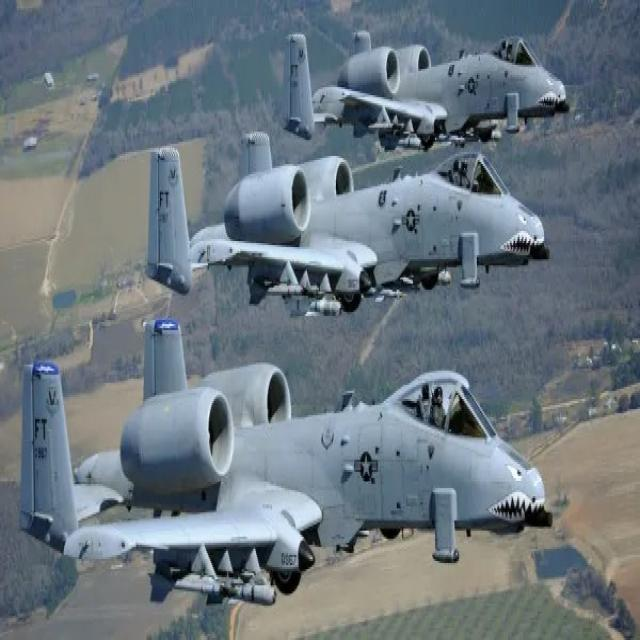B1: (12, 309, 598, 640), (132, 127, 582, 328), (281, 12, 580, 148)
